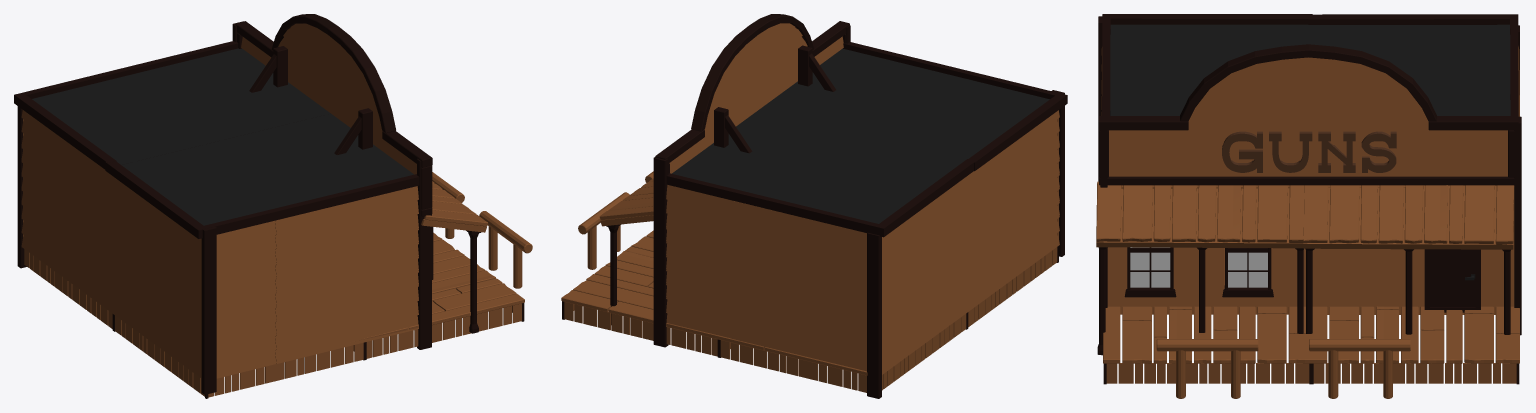
File: guns_store.obj
3 views of the same model, side by side, from view 1: azimuth 30°, elevation 25°; view 2: azimuth 150°, elevation 25°; view 3: azimuth 270°, elevation 25° (orthographic). The views are drawn at different scales.
Visible parts, largest first — view 1: Door_A.007; view 2: Door_A.007; view 3: Door_A.007.
Boxes of the visible parts, x1=… form: Door_A.007: x1=14, y1=14, x2=532, y2=398; Door_A.007: x1=561, y1=14, x2=1067, y2=398; Door_A.007: x1=1096, y1=14, x2=1521, y2=398.
Size of the model in its own units: 7.3 by 4.94 by 6.68.
